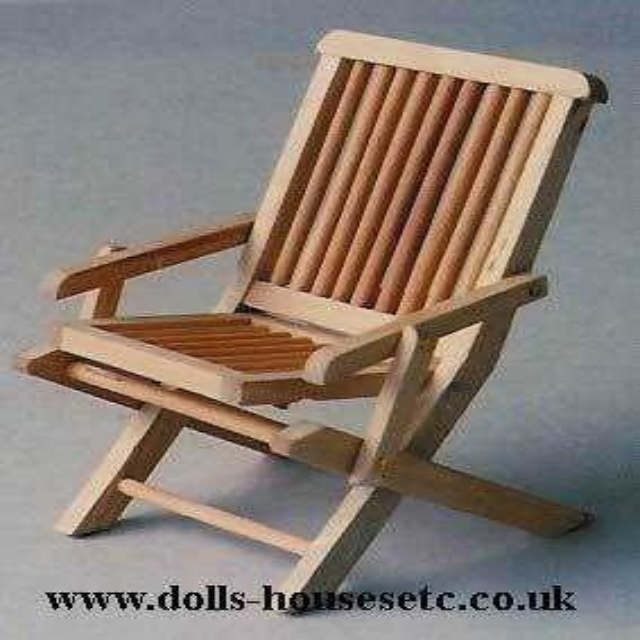obstacle: (20, 30, 606, 612)
